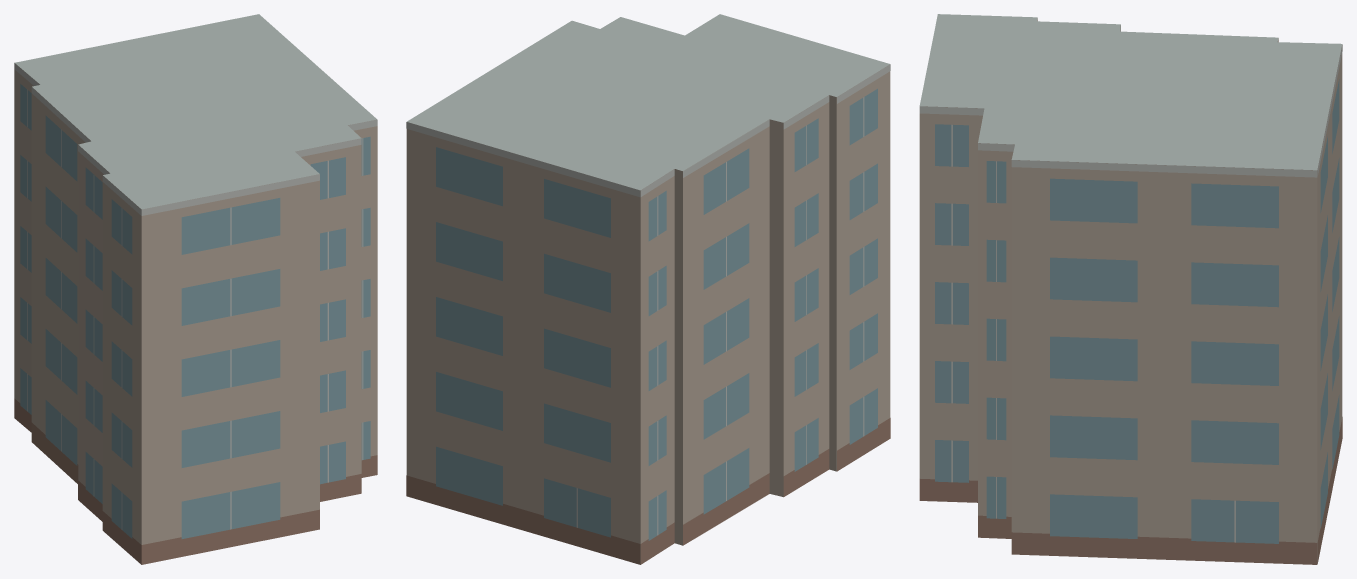
File: survey-upis-32869563.glb
3 views of the same model, side by side, from view 1: azimuth 30°, elevation 25°; view 2: azimuth 150°, elevation 25°; view 3: azimuth 270°, elevation 25° (orthographic). The views are drawn at different scales.
Visible parts, largest first — view 1: survey-upis-32869563.tmp; view 2: survey-upis-32869563.tmp; view 3: survey-upis-32869563.tmp.
Boxes of the visible parts, <box> form: survey-upis-32869563.tmp: <box>14,14,377,564</box>; survey-upis-32869563.tmp: <box>406,14,890,564</box>; survey-upis-32869563.tmp: <box>919,14,1342,564</box>.
Bounding box in the file's own units: 11.18 × 13.15 × 12.78.
